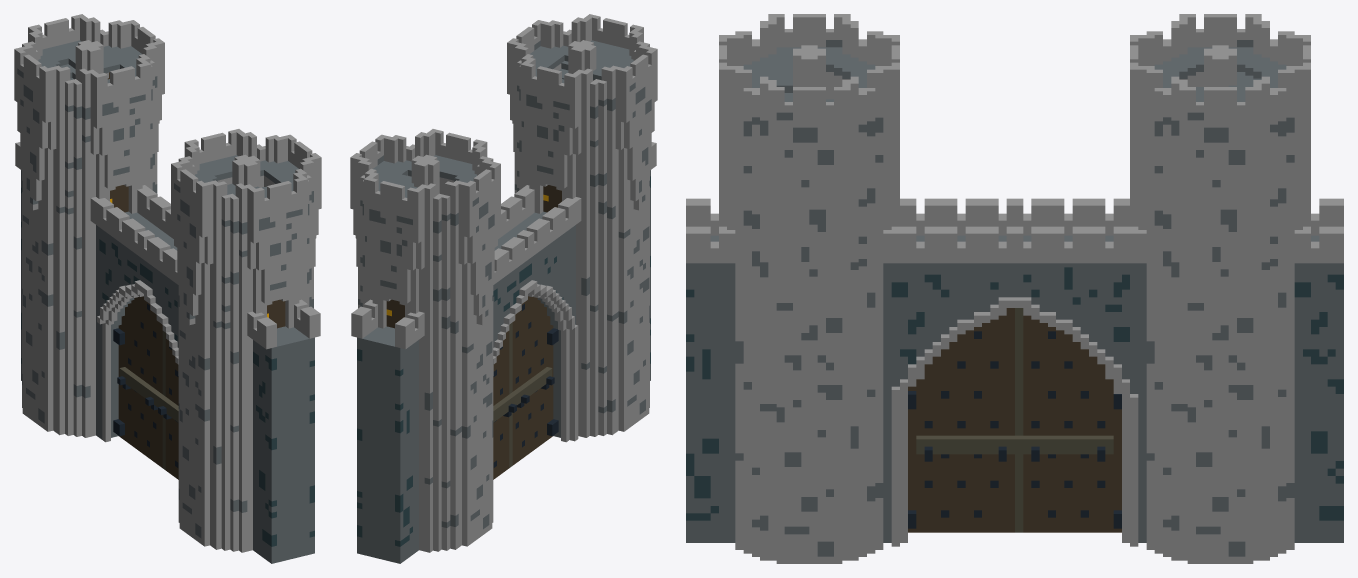
The model's file is wall_gate_closed.obj.
The picture shows the model from 3 angles, left to right: view 1: azimuth 30°, elevation 25°; view 2: azimuth 150°, elevation 25°; view 3: azimuth 270°, elevation 25°; orthographic projection. The views are drawn at different scales.
Size of the model in its own units: 2.2 by 6.4 by 8.
1 material, 1 textured.
